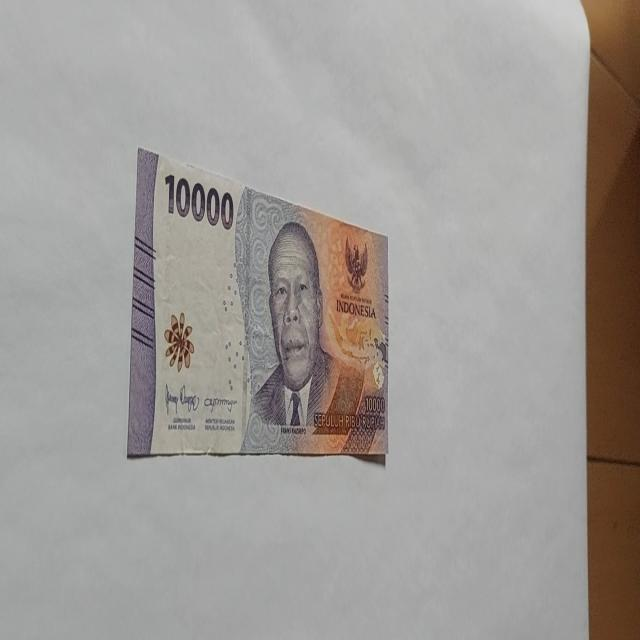sepuluh ribu rupiah: (126, 144, 390, 462), (241, 218, 366, 453)
